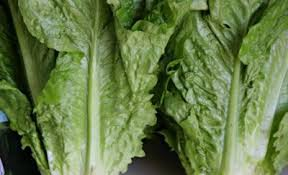Lettuce: (26, 1, 147, 175), (166, 10, 278, 175)
